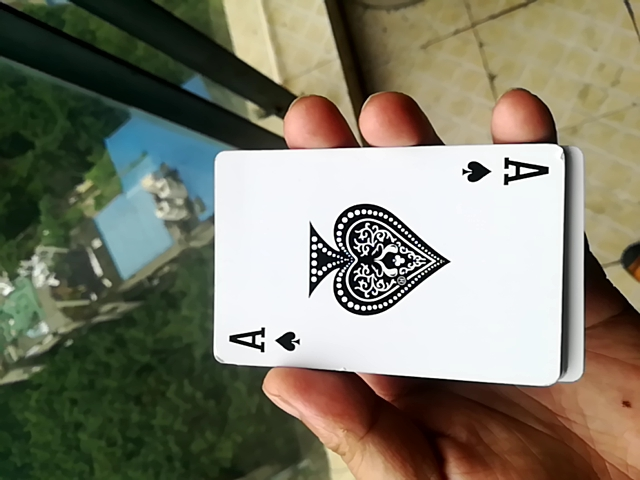ht a: (212, 143, 568, 394)
